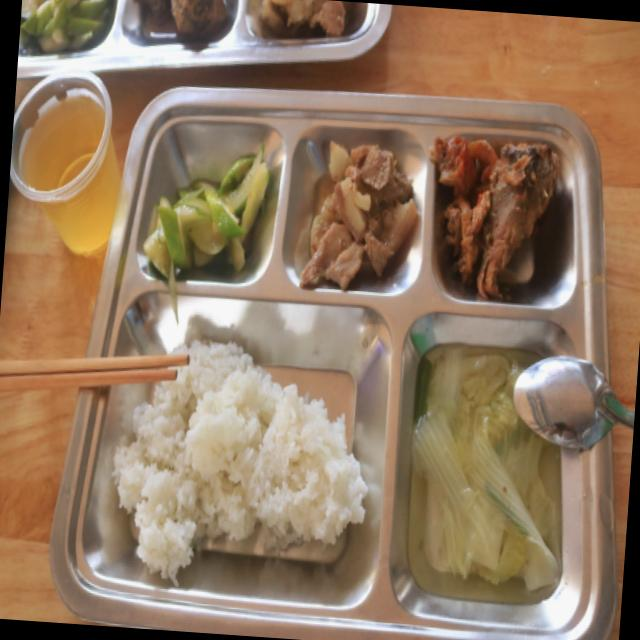canh cai: (408, 344, 560, 603)
com: (112, 340, 367, 580)
dua leo: (143, 143, 269, 308)
ga kho: (430, 135, 559, 296)
suon xao: (300, 146, 416, 288)
